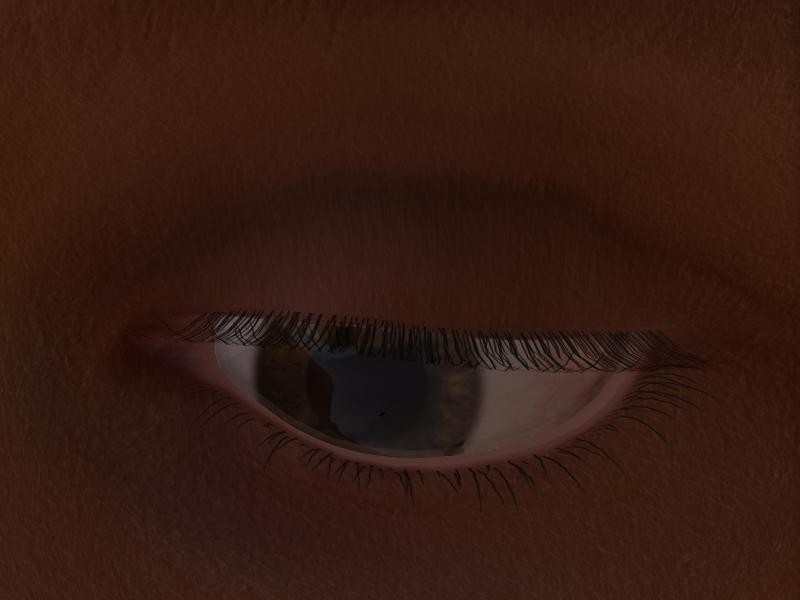eye: (249, 311, 487, 459)
